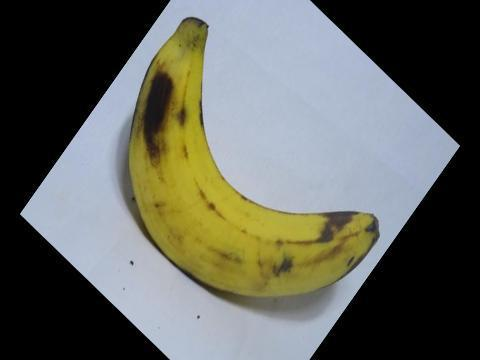ripe: (114, 7, 387, 306)
